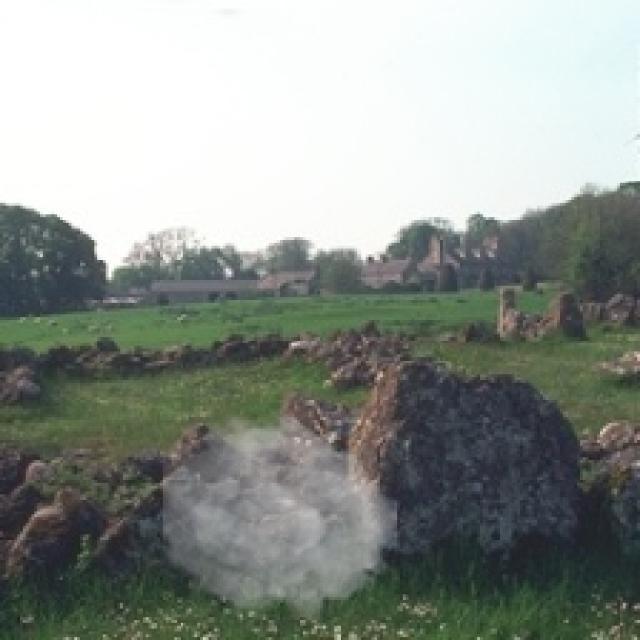smoke: (163, 406, 397, 626)
